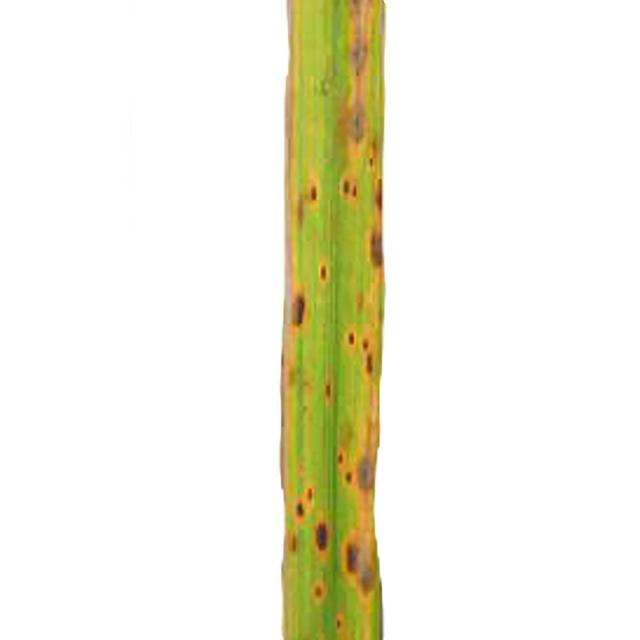Brown spot: (273, 1, 410, 640)
